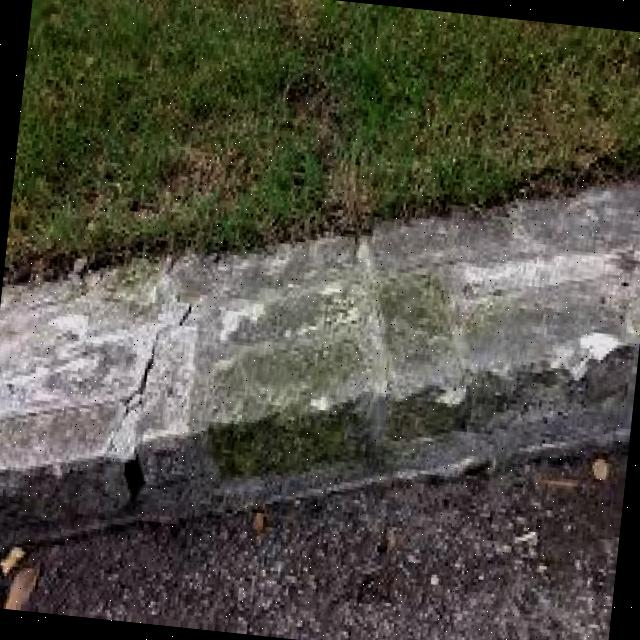curb: (1, 114, 640, 615)
